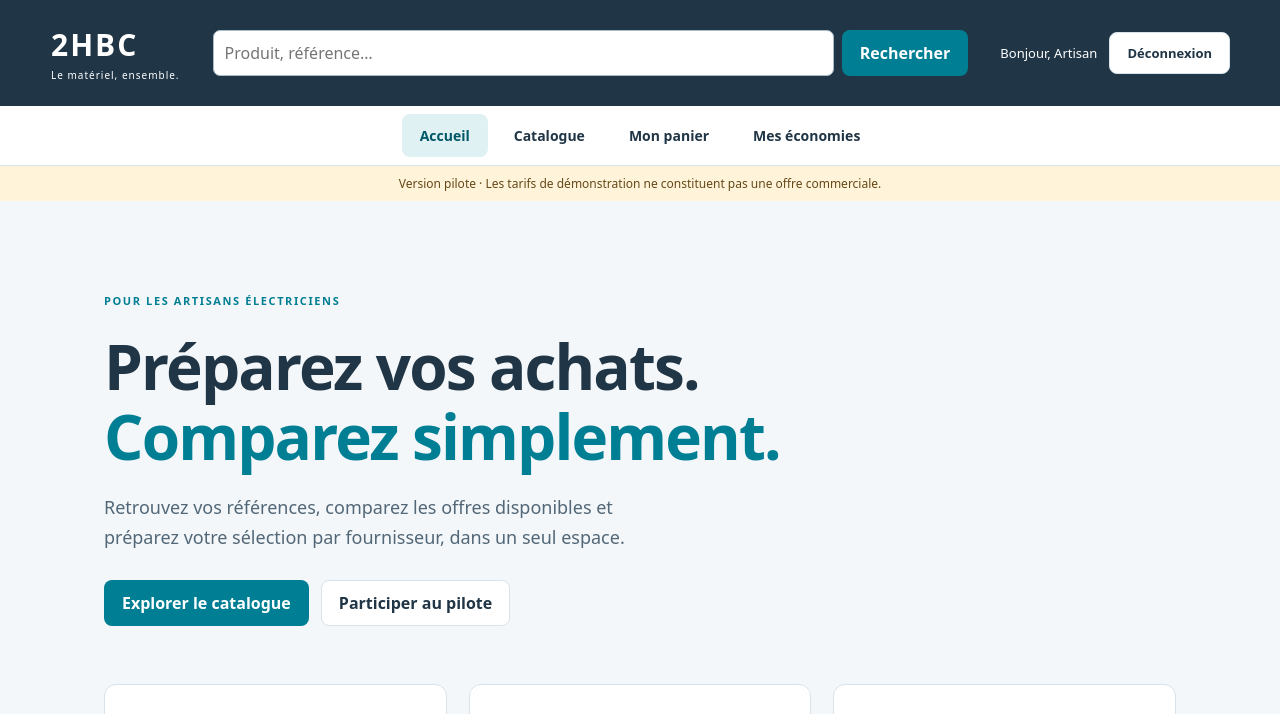
Test: Dashboard sans commandes fictives
Click the button "Mes économies" at point(807, 136), box top-left (735, 114), bottom-right (878, 157)
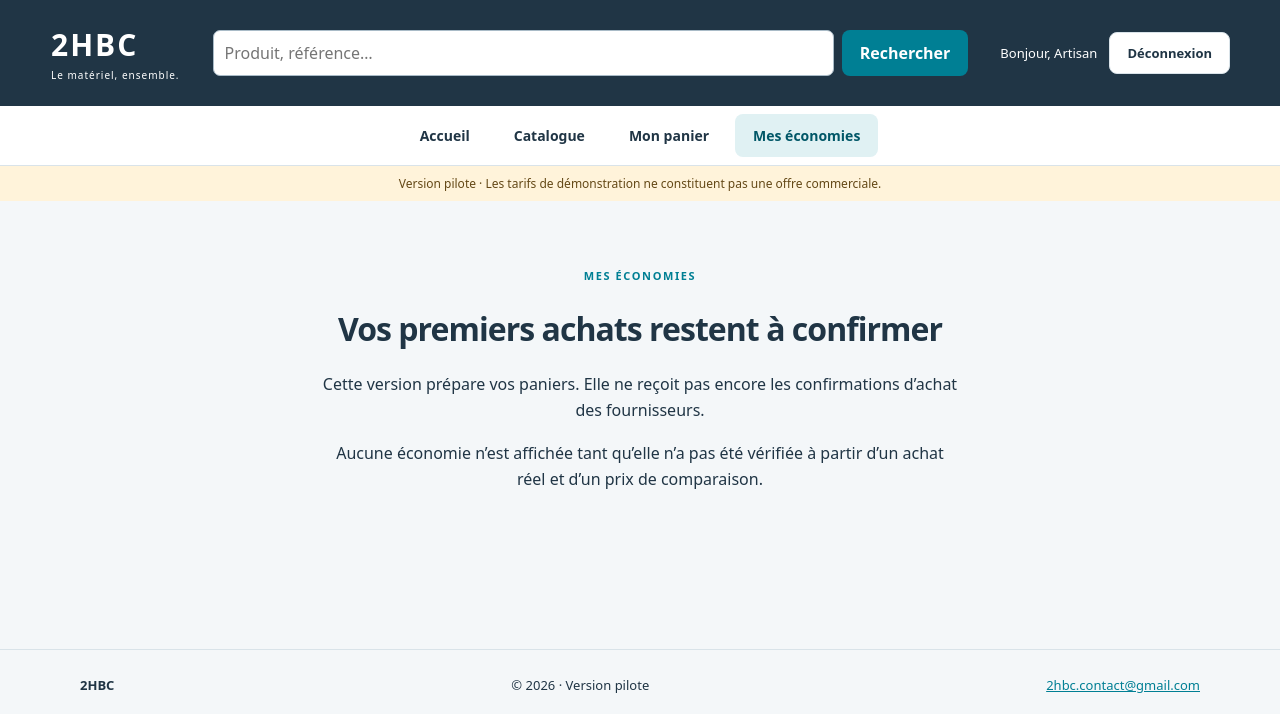
Result: the text "Aucune économie n’est affichée" is shown at top-left (336, 442), bottom-right (944, 490)
